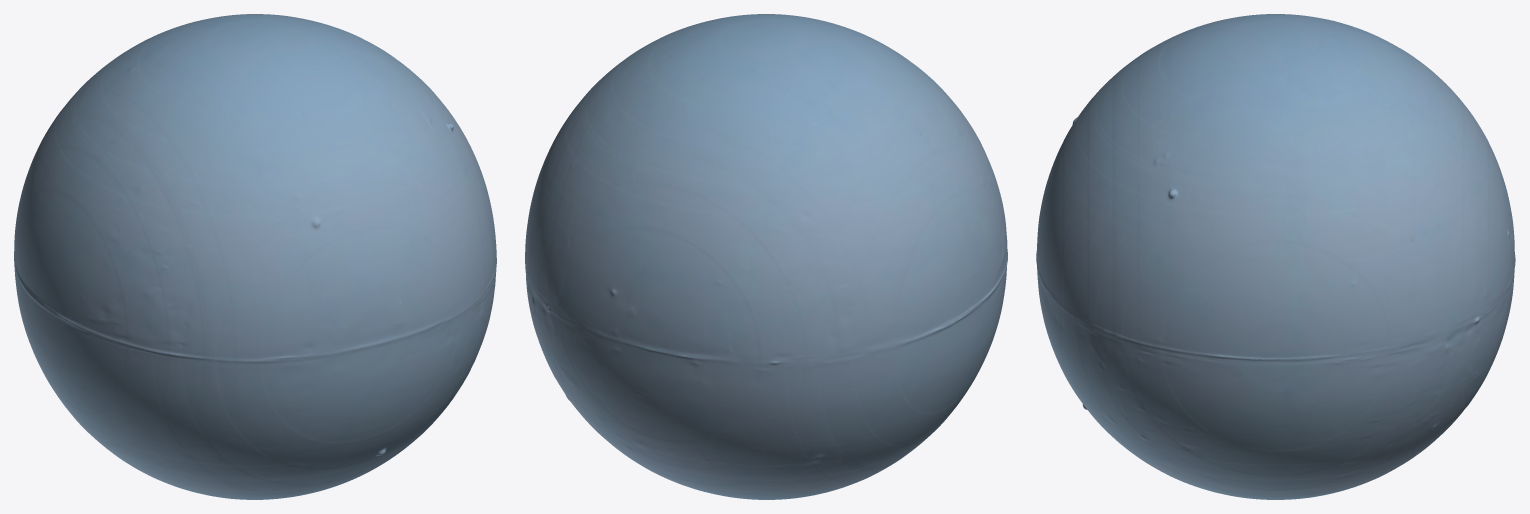
Rendered from detailed_realistic_model_crystalball_23.glb.
3 renders of one model, left to right at view 1: azimuth 30°, elevation 25°; view 2: azimuth 150°, elevation 25°; view 3: azimuth 270°, elevation 25°, orthographic.
Parts seen in each view (by area): view 1: tripo_node_733b7c45-b45a-451c-998a-ec3ccd5e8b19; view 2: tripo_node_733b7c45-b45a-451c-998a-ec3ccd5e8b19; view 3: tripo_node_733b7c45-b45a-451c-998a-ec3ccd5e8b19.
Boxes of the visible parts, box(x1,y1,x2,y2) form: tripo_node_733b7c45-b45a-451c-998a-ec3ccd5e8b19: box(14, 14, 496, 499); tripo_node_733b7c45-b45a-451c-998a-ec3ccd5e8b19: box(525, 14, 1007, 499); tripo_node_733b7c45-b45a-451c-998a-ec3ccd5e8b19: box(1036, 14, 1515, 499).
Size of the model in its own units: 0.9876 by 1 by 0.9882.
1 material, 1 textured.
